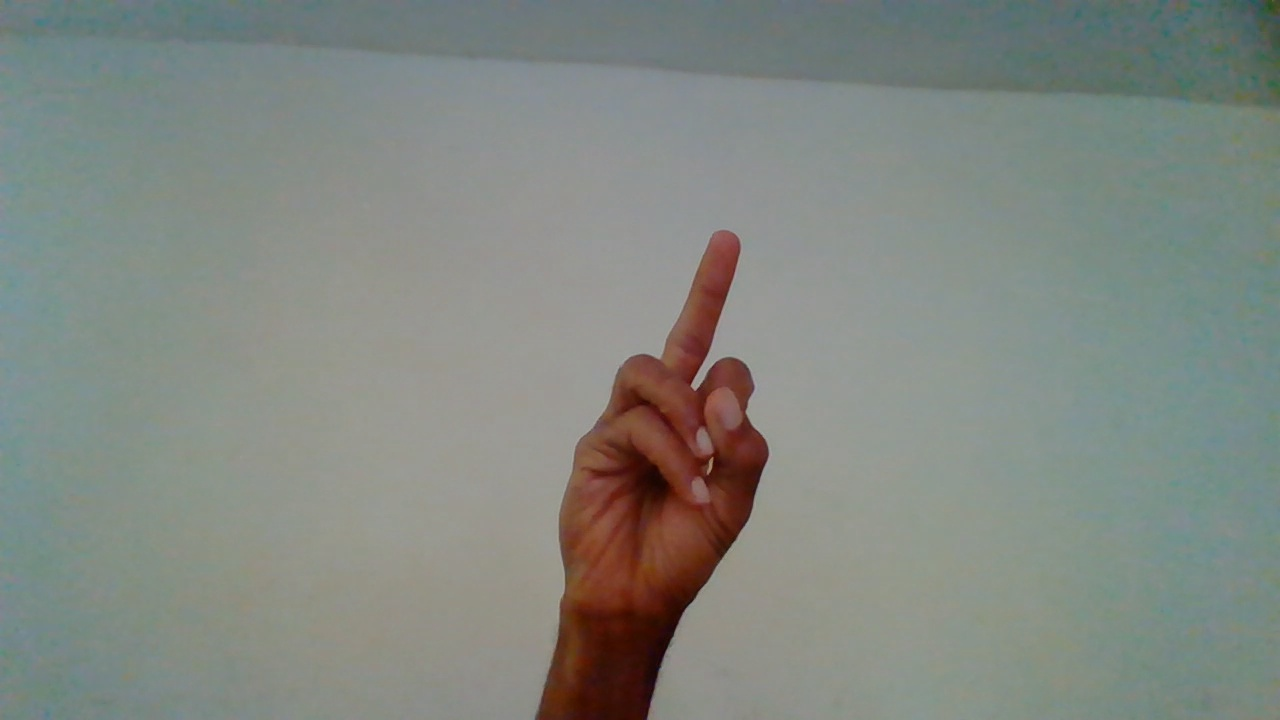he: (555, 230, 775, 700)
